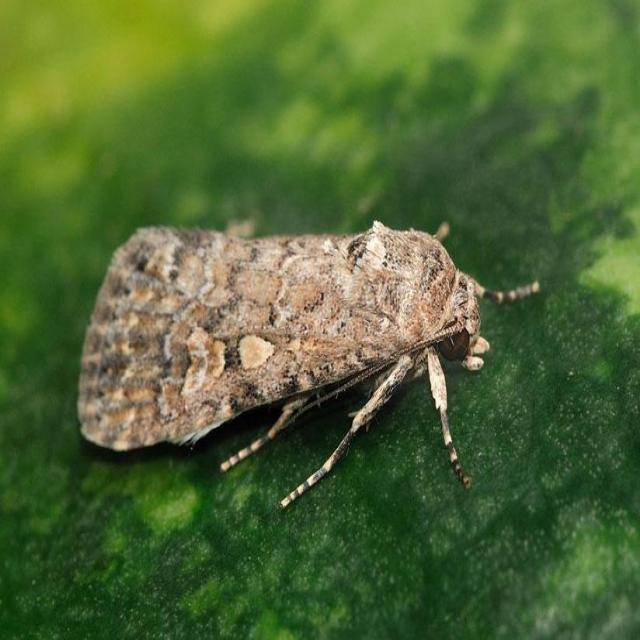BeetArmyWorm-Adult-: (67, 209, 549, 522)
